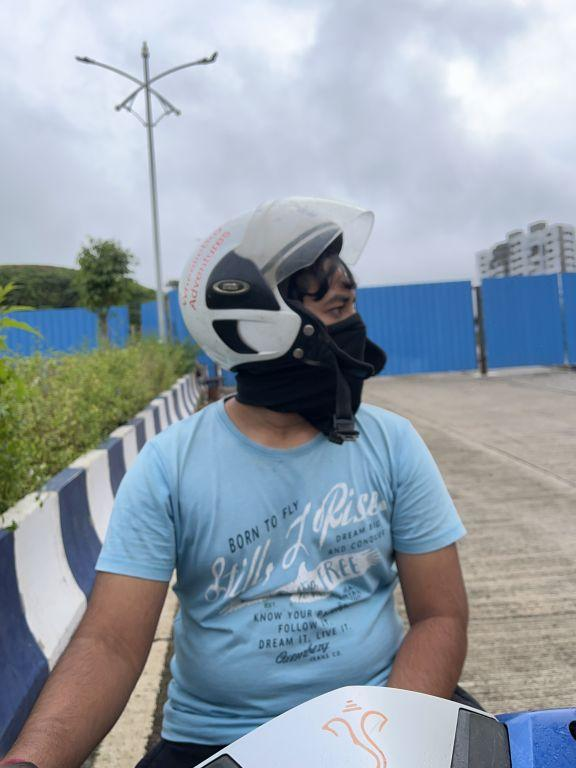helmet: (177, 187, 385, 395)
